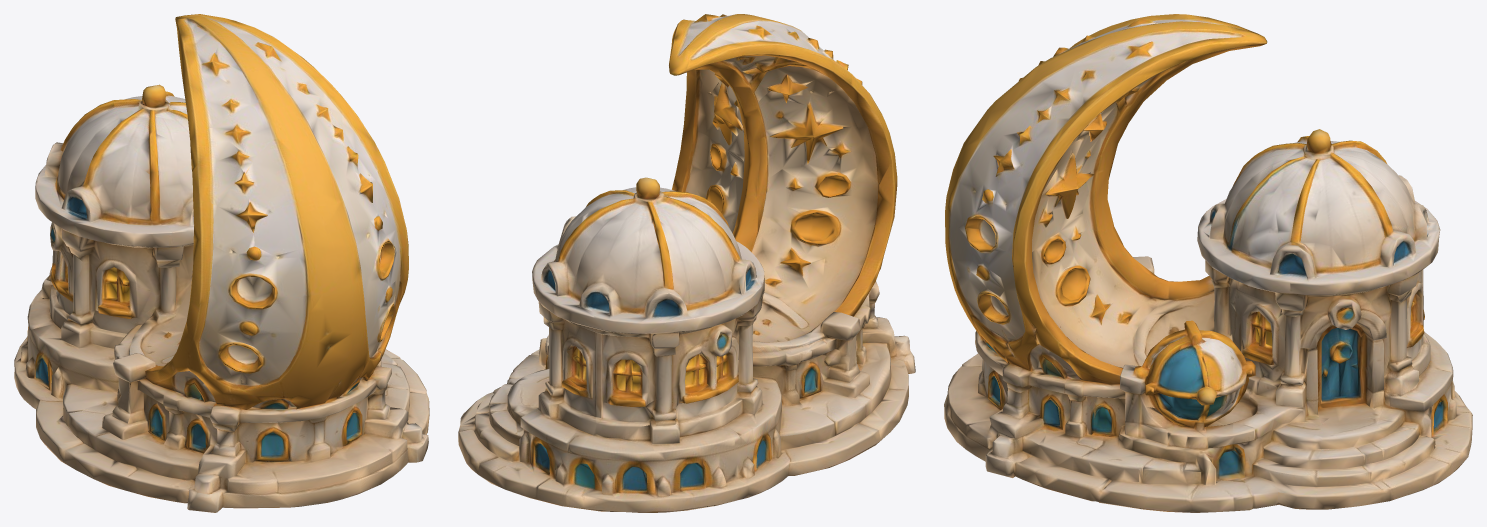
Rendered from moon-observatory-web.glb.
3 renders of one model, left to right at view 1: azimuth 30°, elevation 25°; view 2: azimuth 150°, elevation 25°; view 3: azimuth 270°, elevation 25°, orthographic. The views are drawn at different scales.
Visible parts, largest first — view 1: moon-observatory-part-0; view 2: moon-observatory-part-0; view 3: moon-observatory-part-0.
Part boxes in pixels (left/top/right/bottom): moon-observatory-part-0: left=14, top=14, right=429, bottom=512; moon-observatory-part-0: left=458, top=14, right=915, bottom=512; moon-observatory-part-0: left=944, top=14, right=1472, bottom=512.
Size of the model in its own units: 0.9313 by 0.9977 by 1.2.
1 material, 1 textured.
